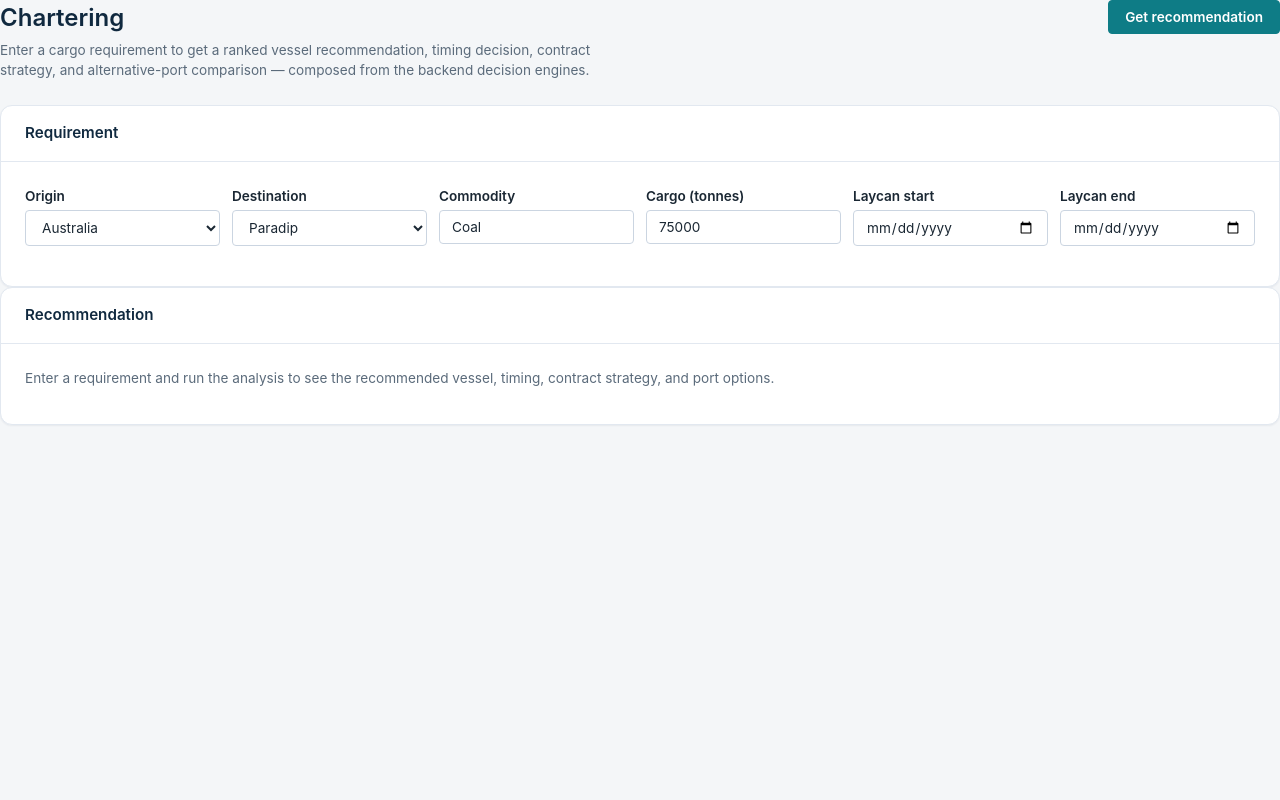
Test: CharteringPage › runs the workflow and shows the decision card, ranking, and strategy
The width and height of the screenshot is (1280, 800).
Step 1. Click the button "Get recommendation" → (1194,17), box [1108,0,1279,34]
(page scrolled)
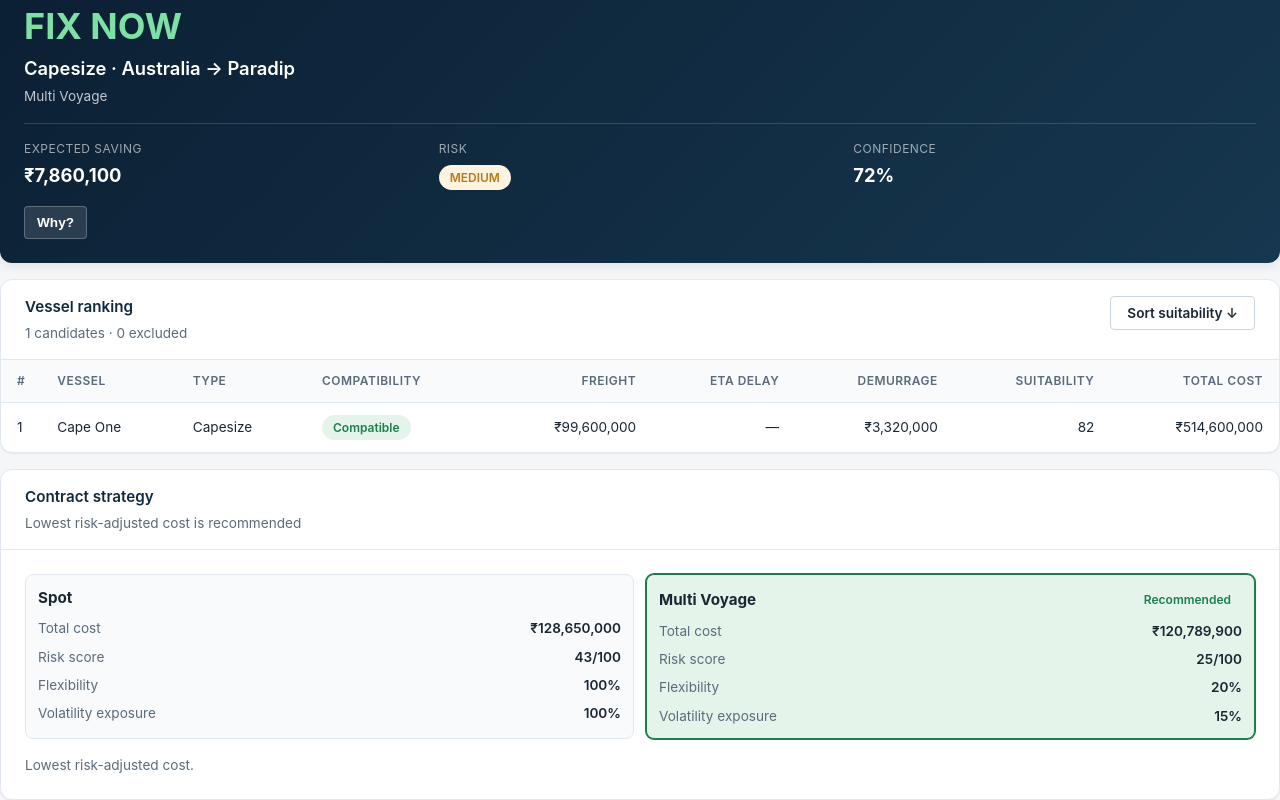
Check: the text "FIX NOW" is shown, box [24,4,182,48]
Check: the text "Cape One" is shown, box [41,402,177,452]
Check: the text "Multi Voyage" below "Capesize · Australia → Paradip" is shown, box [24,88,107,104]
